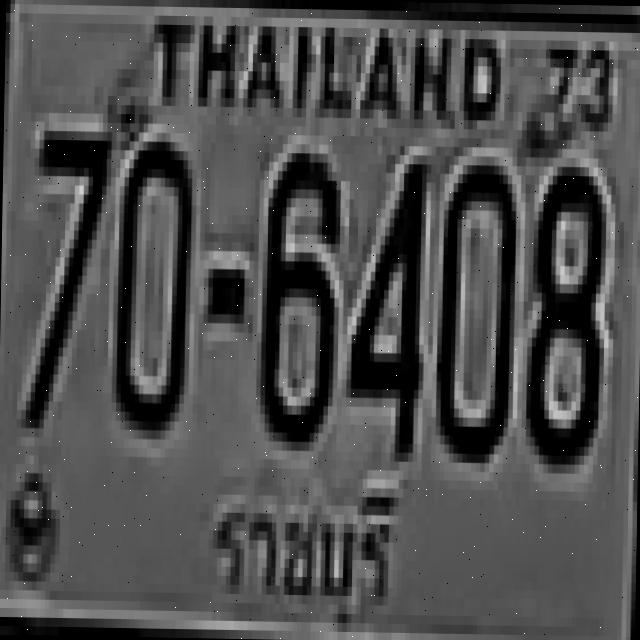0: (432, 155, 514, 454), (108, 132, 190, 430)
4: (345, 154, 427, 452)
6: (255, 143, 336, 442)
7: (24, 121, 110, 420)
8: (520, 157, 602, 456)
Ratchaburi: (199, 478, 405, 638)
